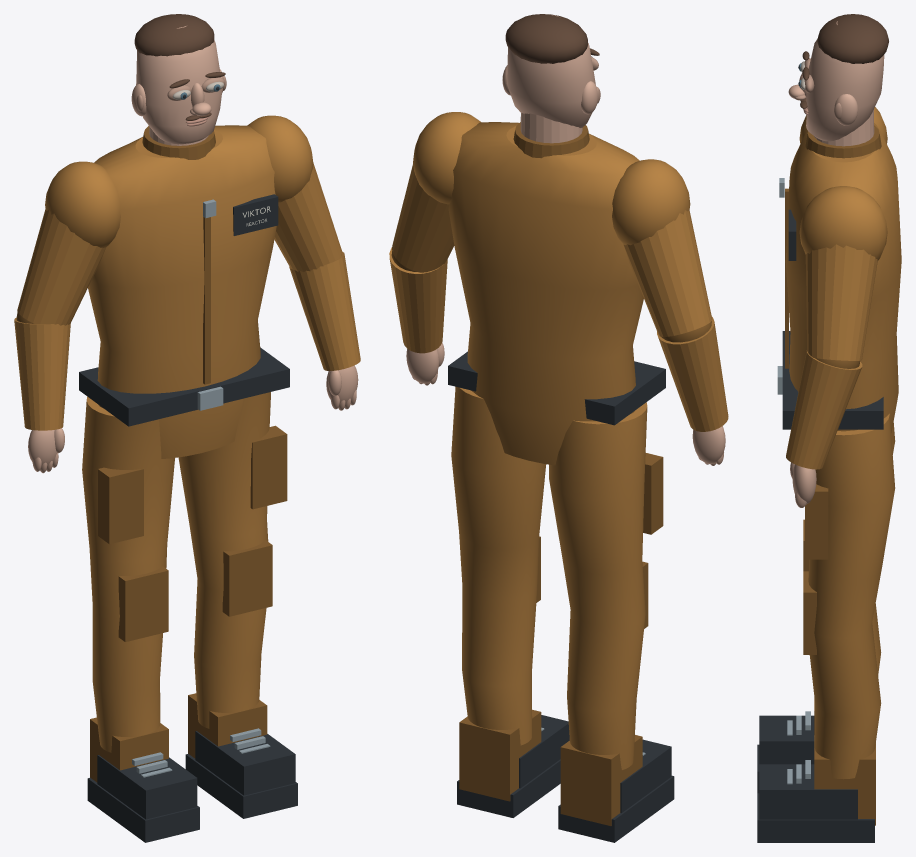
File: Viktor.glb
3 renders of one model, left to right at view 1: azimuth 30°, elevation 25°; view 2: azimuth 150°, elevation 25°; view 3: azimuth 270°, elevation 25°, orthographic. The views are drawn at different scales.
Parts seen in each view (by area): view 1: Tailored torso.001, Trouser leg.002, Trouser leg.003, Upper sleeve.002, Head.001, Utility belt.001, Forearm sleeve.002, Forearm sleeve.003, Shoulder seam.002, Upper sleeve.003, Boot toe.003, Boot toe.002 (+15 smaller); view 2: Tailored torso.001, Trouser leg.002, Trouser leg.003, Upper sleeve.002, Shoulder seam.002, Head.001, Boot ankle.002, Boot ankle.003, Forearm sleeve.002, Upper sleeve.003, Forearm sleeve.003, Shoulder seam.003 (+11 smaller); view 3: Trouser leg.003, Tailored torso.001, Upper sleeve.003, Forearm sleeve.003, Shoulder seam.003, Head.001, Boot toe.003, Boot sole.003, Close cropped hair, Boot toe.002, Boot ankle.003, Utility belt.001 (+10 smaller).
Boxes of the visible parts, <box> form: Tailored torso.001: <box>88,125,276,458</box>; Trouser leg.002: <box>82,396,174,752</box>; Trouser leg.003: <box>178,392,270,728</box>; Upper sleeve.002: <box>17,209,106,325</box>; Head.001: <box>136,26,222,144</box>; Utility belt.001: <box>79,347,289,426</box>; Forearm sleeve.002: <box>14,317,70,430</box>; Forearm sleeve.003: <box>289,251,360,370</box>; Shoulder seam.002: <box>45,161,120,247</box>; Upper sleeve.003: <box>274,163,341,271</box>; Boot toe.003: <box>195,731,295,795</box>; Boot toe.002: <box>97,755,197,819</box>; Tailored torso.001: <box>448,122,643,465</box>; Trouser leg.002: <box>549,402,647,769</box>; Trouser leg.003: <box>451,386,546,745</box>; Upper sleeve.002: <box>623,210,712,336</box>; Shoulder seam.002: <box>612,159,690,245</box>; Head.001: <box>506,15,595,127</box>; Boot ankle.002: <box>560,735,642,825</box>; Boot ankle.003: <box>459,709,541,801</box>; Forearm sleeve.002: <box>657,317,728,431</box>; Upper sleeve.003: <box>392,163,454,272</box>; Forearm sleeve.003: <box>389,247,447,353</box>; Shoulder seam.003: <box>413,112,480,204</box>; Trouser leg.003: <box>808,413,895,779</box>; Tailored torso.001: <box>785,123,901,433</box>; Upper sleeve.003: <box>805,244,877,360</box>; Forearm sleeve.003: <box>786,350,862,469</box>; Shoulder seam.003: <box>799,186,887,260</box>; Head.001: <box>806,21,884,141</box>; Boot toe.003: <box>759,764,857,819</box>; Boot sole.003: <box>757,793,874,842</box>; Close cropped hair: <box>817,14,888,63</box>; Boot toe.002: <box>759,715,814,764</box>; Boot ankle.003: <box>814,735,875,825</box>; Utility belt.001: <box>782,331,883,429</box>.
Size of the model in its own units: 0.5488 by 1.26 by 0.2105.
